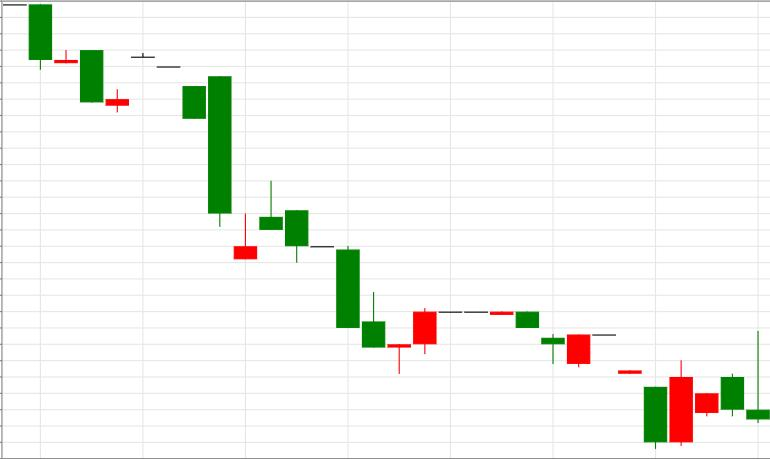morning_star_rise: (259, 181, 437, 374)
